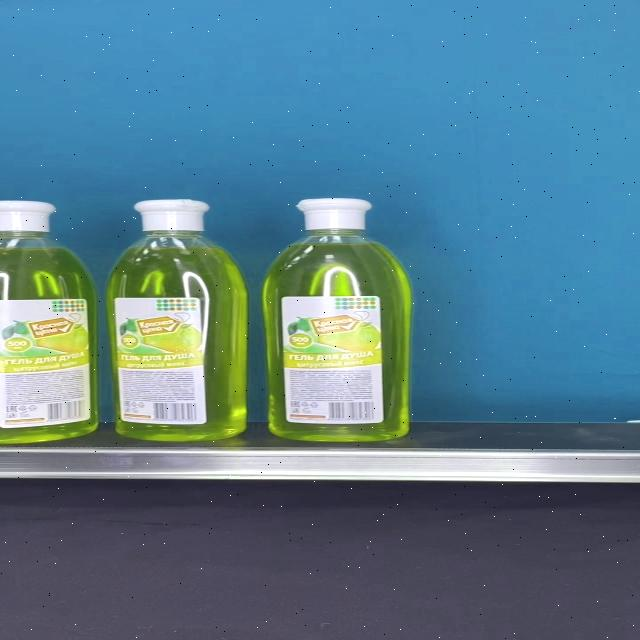Bottle: (262, 198, 412, 442), (106, 199, 248, 441)
Cap: (134, 199, 210, 231), (296, 198, 372, 230)
